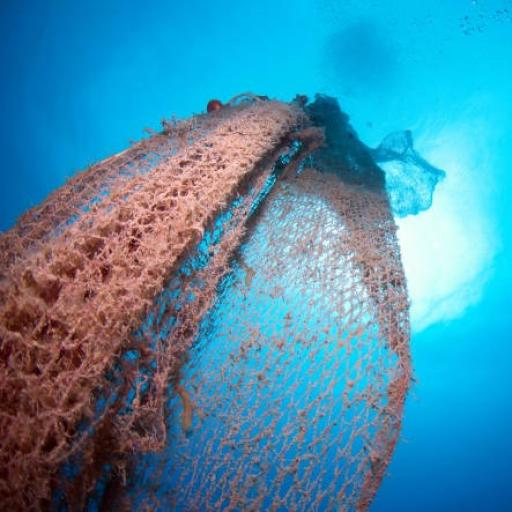net: (2, 90, 416, 512)
